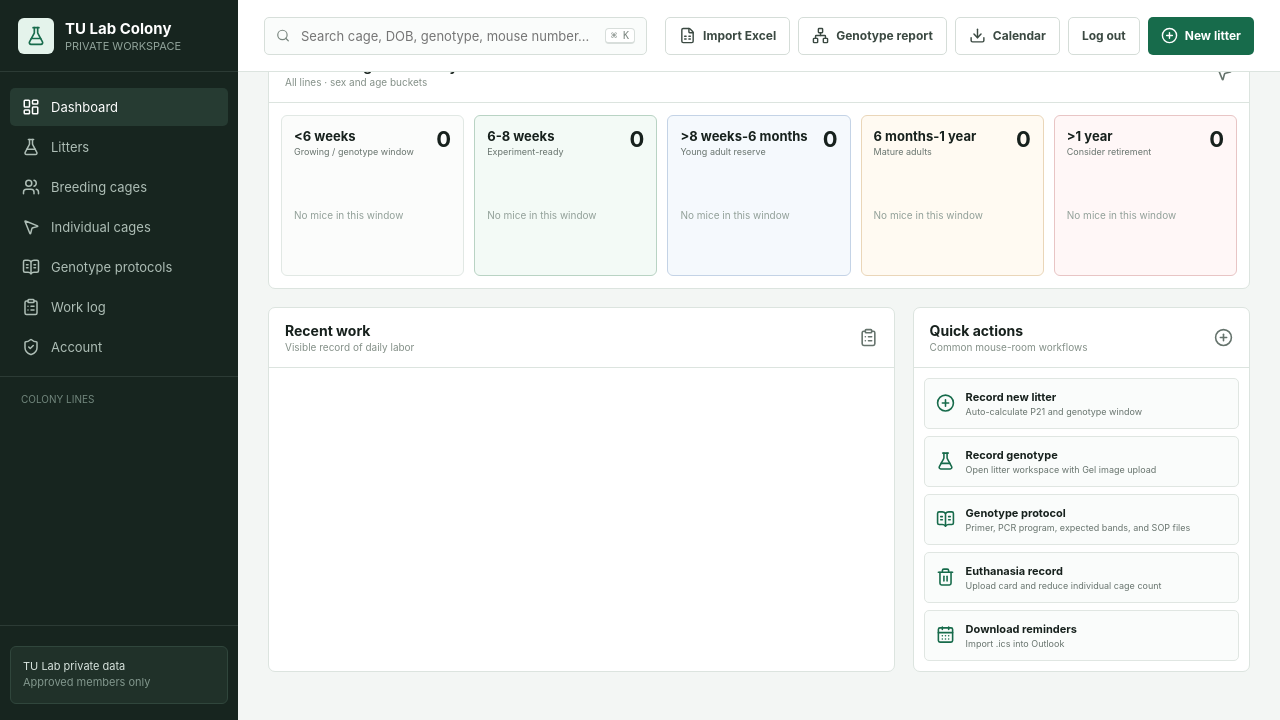
colony line filtering › shows all litter cards in genotype mode so old results can be uploaded later
(page scrolled)
Click the button "Record genotype" at coordinates (1081, 461), box [924,436,1239,487]
(page scrolled)
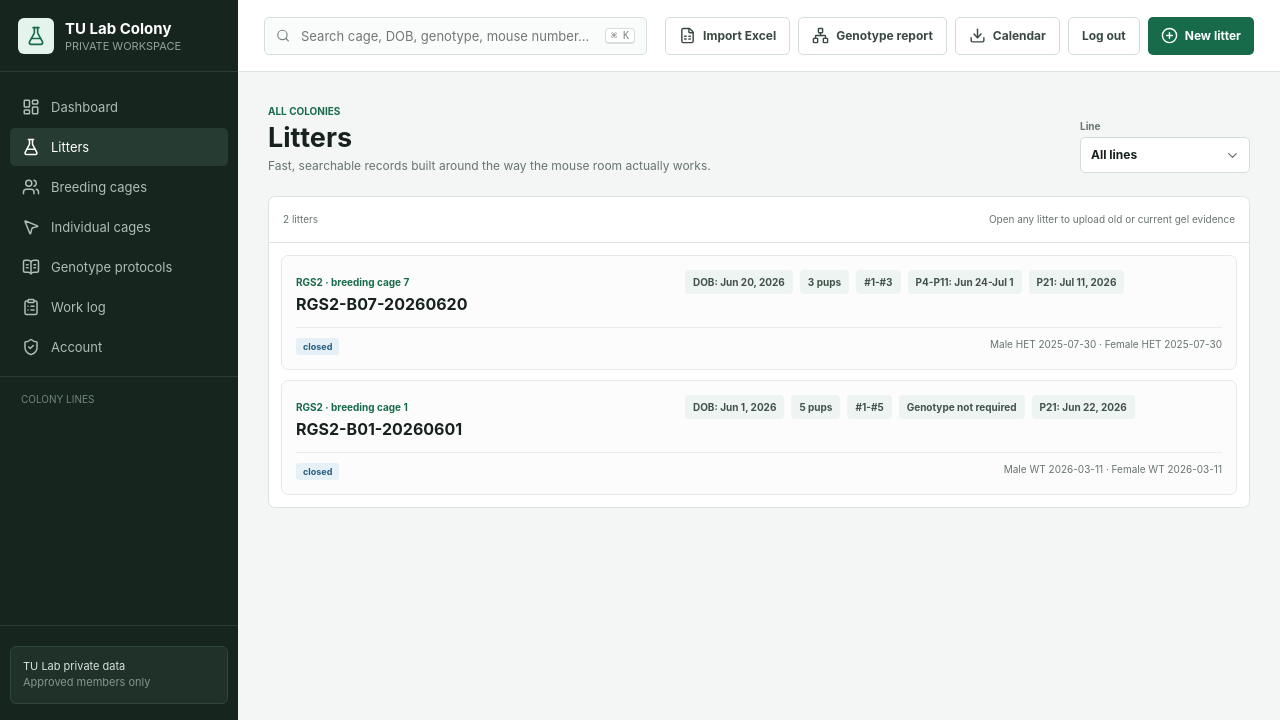
Check: the button "RGS2-B07-20260620" is shown, box [296,294,468,314]
Check: the button "RGS2-B01-20260601" is shown, box [296,419,462,439]
